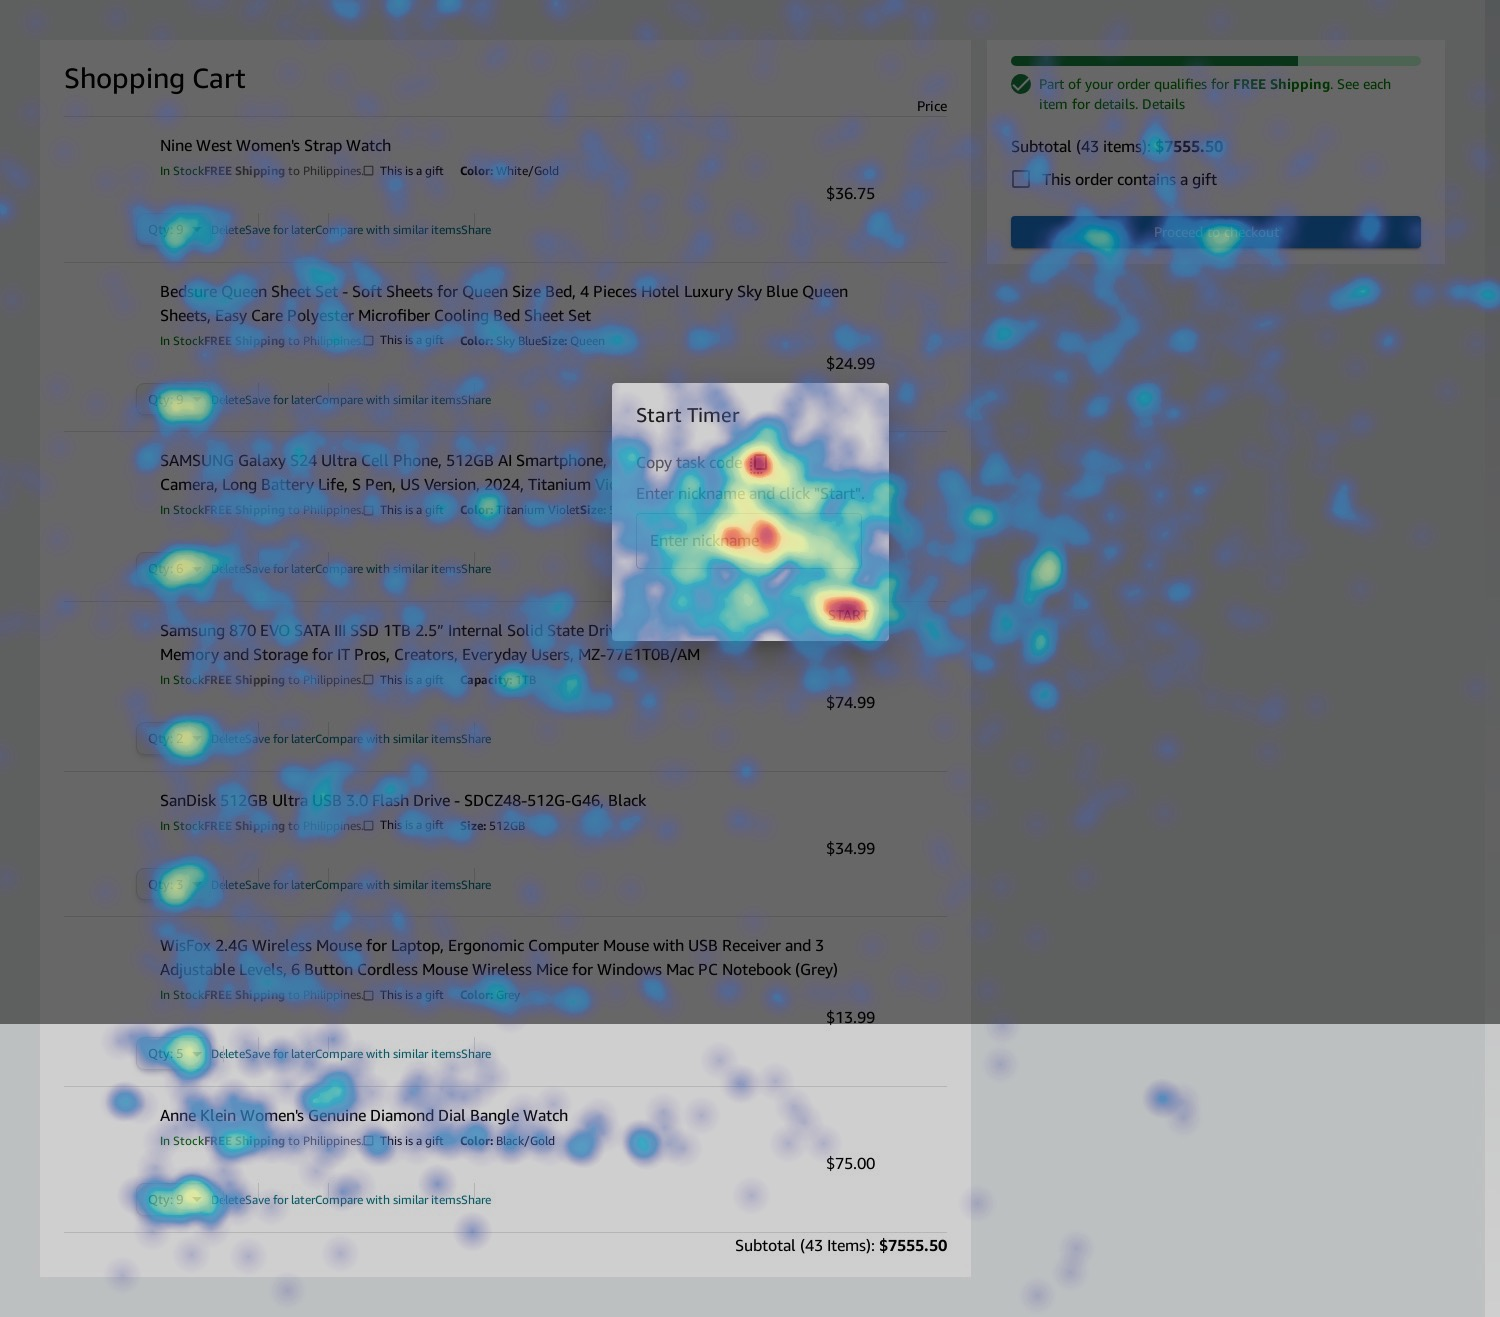checkout: (1011, 215, 1421, 250)
nickname: (635, 516, 861, 567)
qty: (140, 384, 216, 416), (136, 722, 210, 753), (136, 549, 212, 580), (131, 868, 207, 899), (135, 1038, 210, 1068), (134, 1184, 209, 1215), (136, 214, 210, 245)
start: (807, 593, 879, 631)
task_code: (744, 449, 774, 477)
